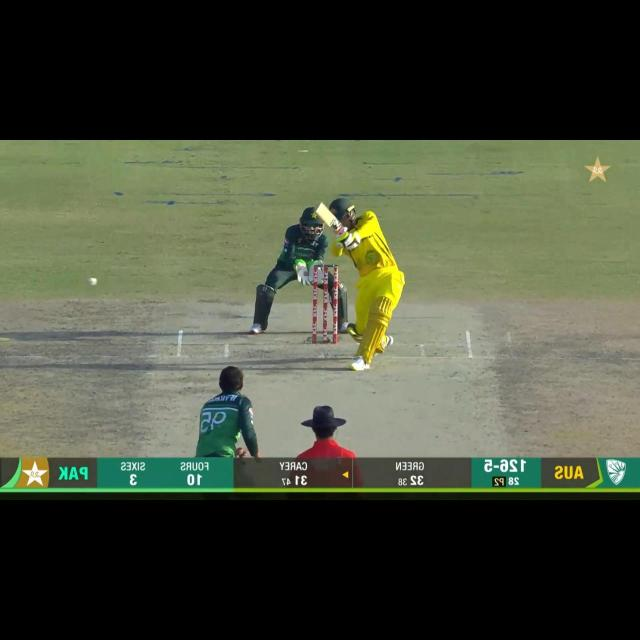bat: (312, 203, 343, 231)
toe: (311, 203, 331, 219)
